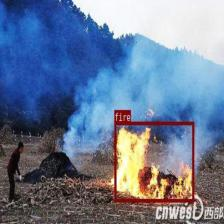fire: (114, 121, 194, 202)
